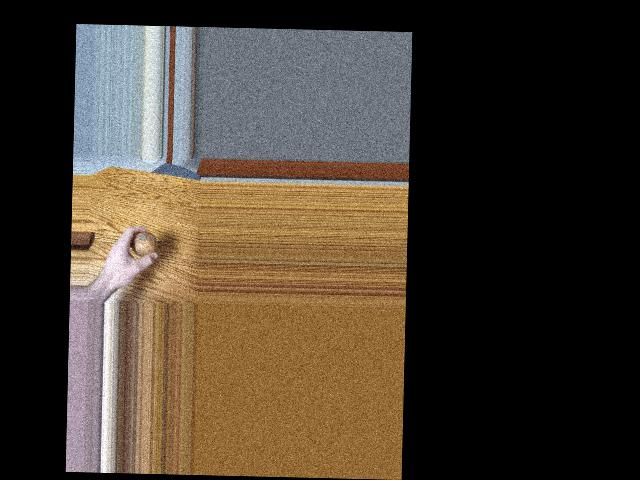onion: (127, 229, 156, 260)
